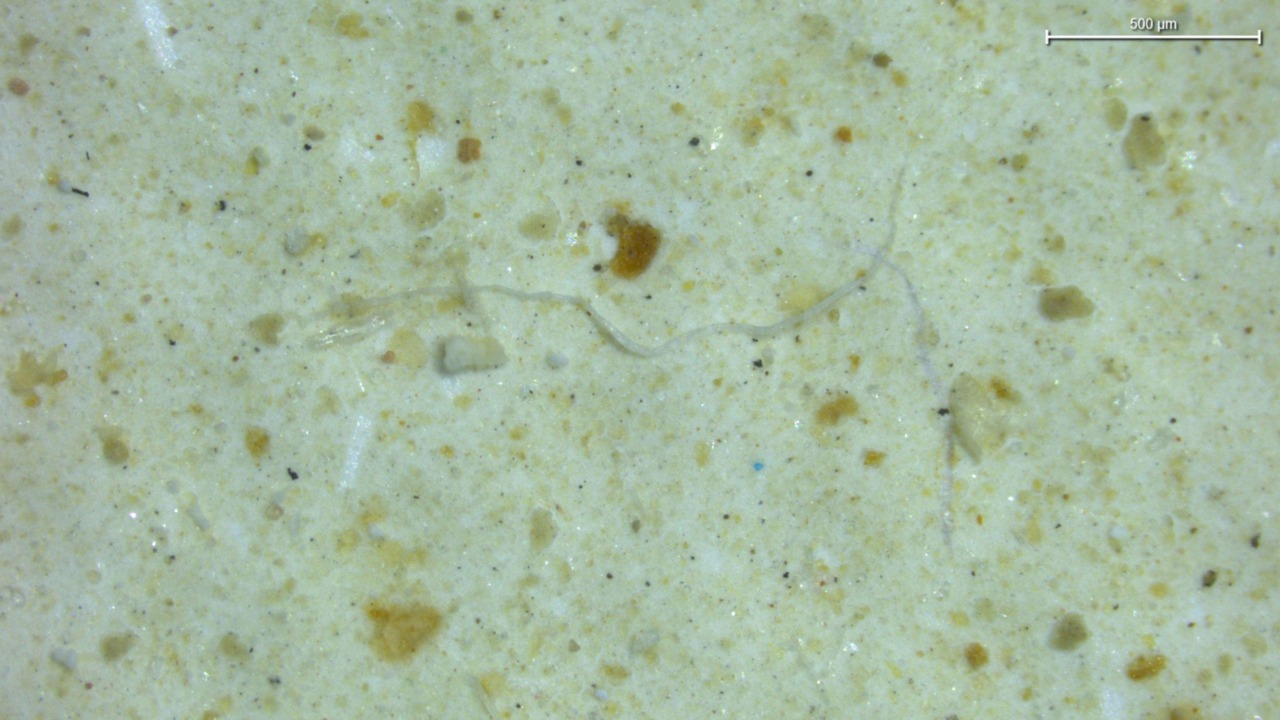microplastic_fragment: (442, 335, 508, 373), (285, 226, 309, 254), (546, 352, 568, 369), (1086, 611, 1095, 620)
